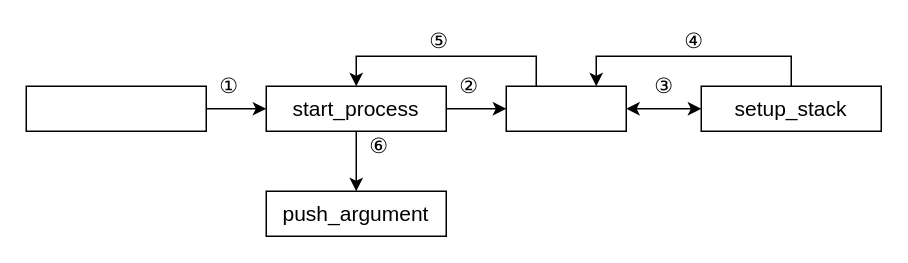
Image size: 908x263. Some labels were removed from this diagram. The centre of each missing label's shape, as x and y in pixels:
load: point (565, 108)
process_execute: point (115, 108)
